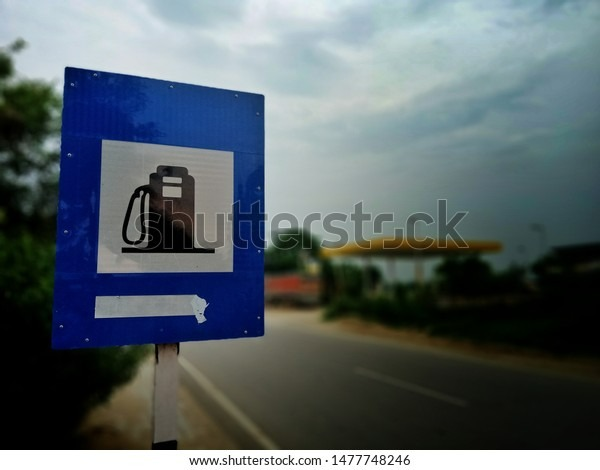fuel-station: (55, 67, 263, 338)
